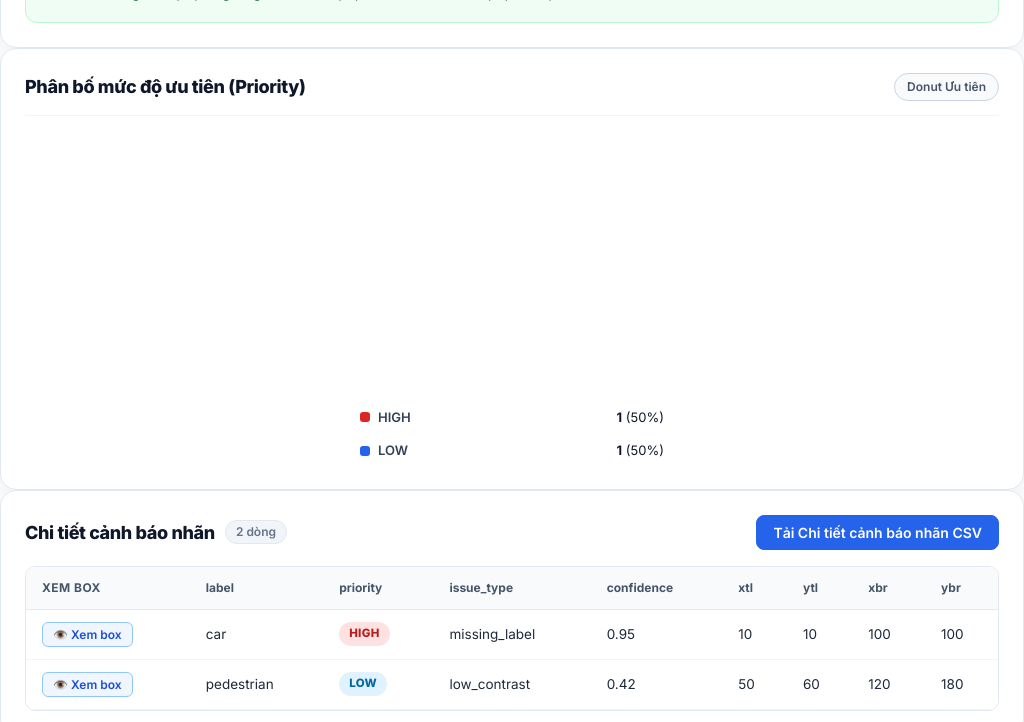
Task 5B Parity - Label Check Flagged Box Inspector & Charts › opens and navigates flagged box inspector in audit table
(page scrolled)
# Click "Xem box" on first row
Step 1. Click the button "👁️ Xem box" next to "car" → (87, 634), box [42,622,133,646]
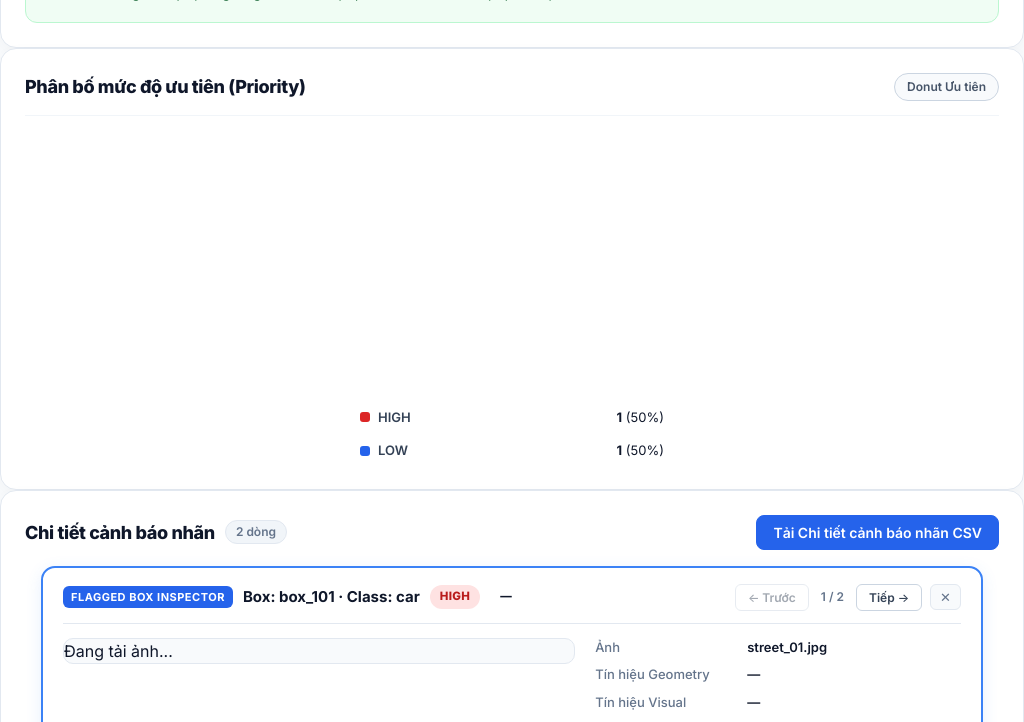
Expected: the text "Flagged Box Inspector" is shown, [63,586,233,608]
Expected: the heading "Box: box_101 · Class: car" is shown, [243,586,420,608]
# Navigate to next box
Step 2. Click the button "Tiếp →" → (889, 597), box [856,584,922,610]
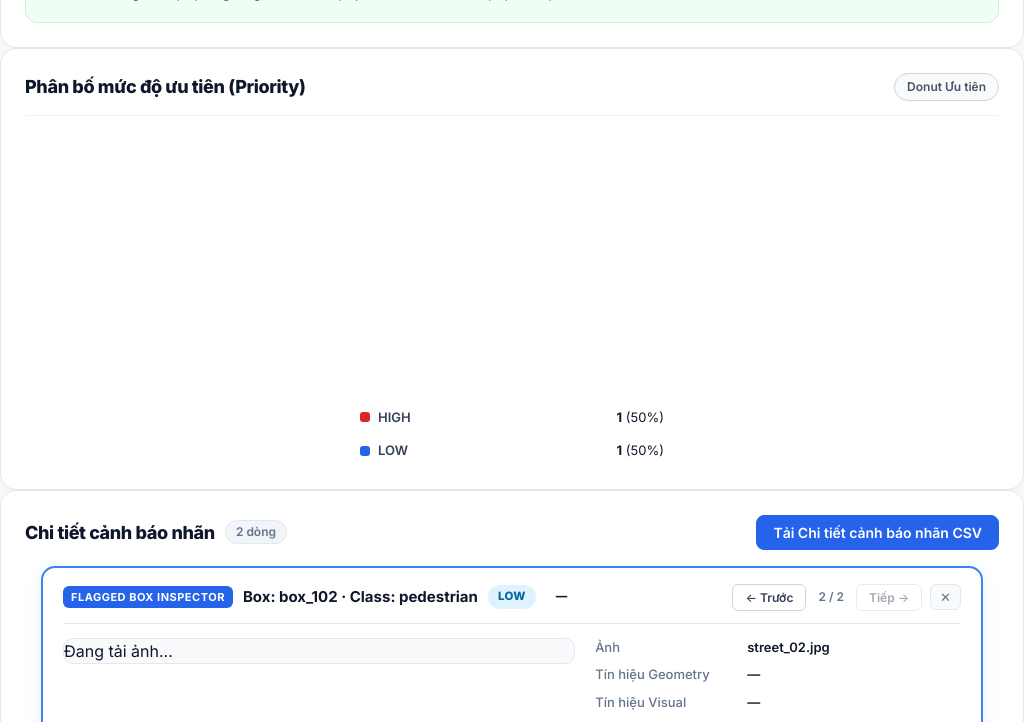
Expected: the heading "Box: box_102 · Class: pedestrian" is shown, [243,586,478,608]
# Navigate back to previous box
Step 3. Click the button "← Trước" → (769, 597), box [732,584,806,610]
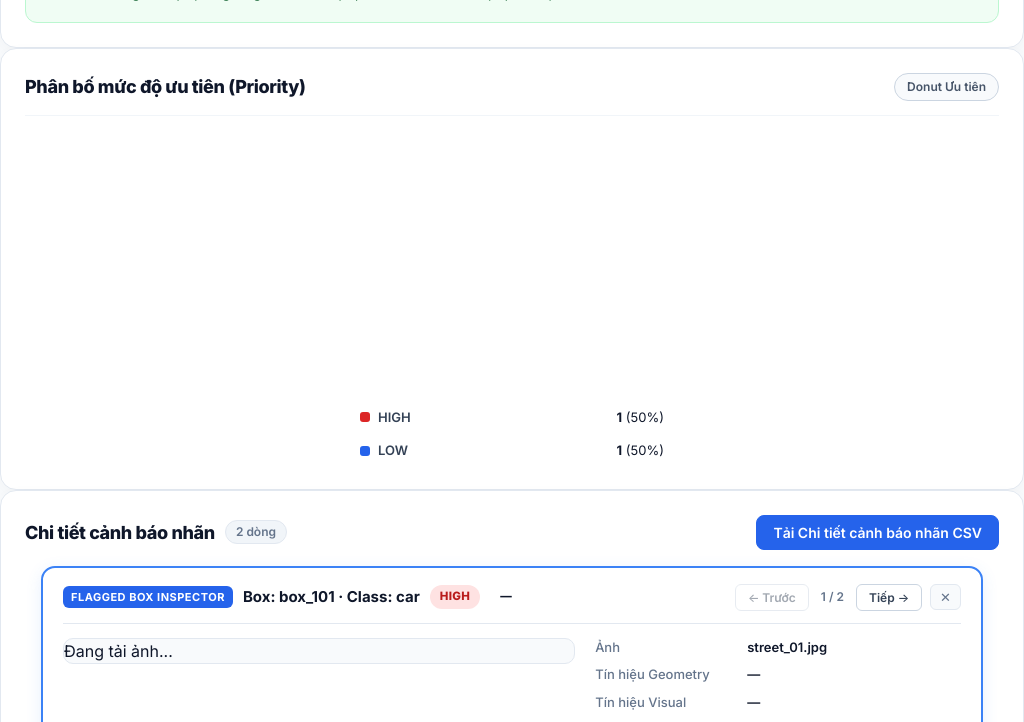
Expected: the heading "Box: box_101 · Class: car" is shown, [243,586,420,608]
# Close inspector
Step 4. Click the button "✕" → (946, 597), box [930,584,961,610]
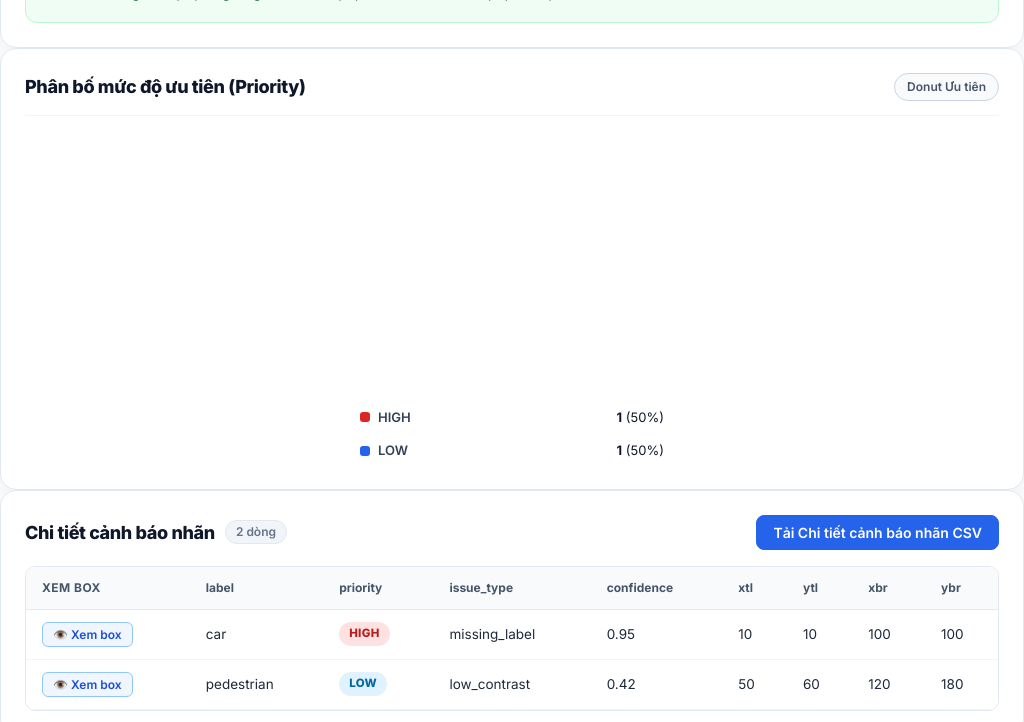
Expected: the text "Flagged Box Inspector" is gone
